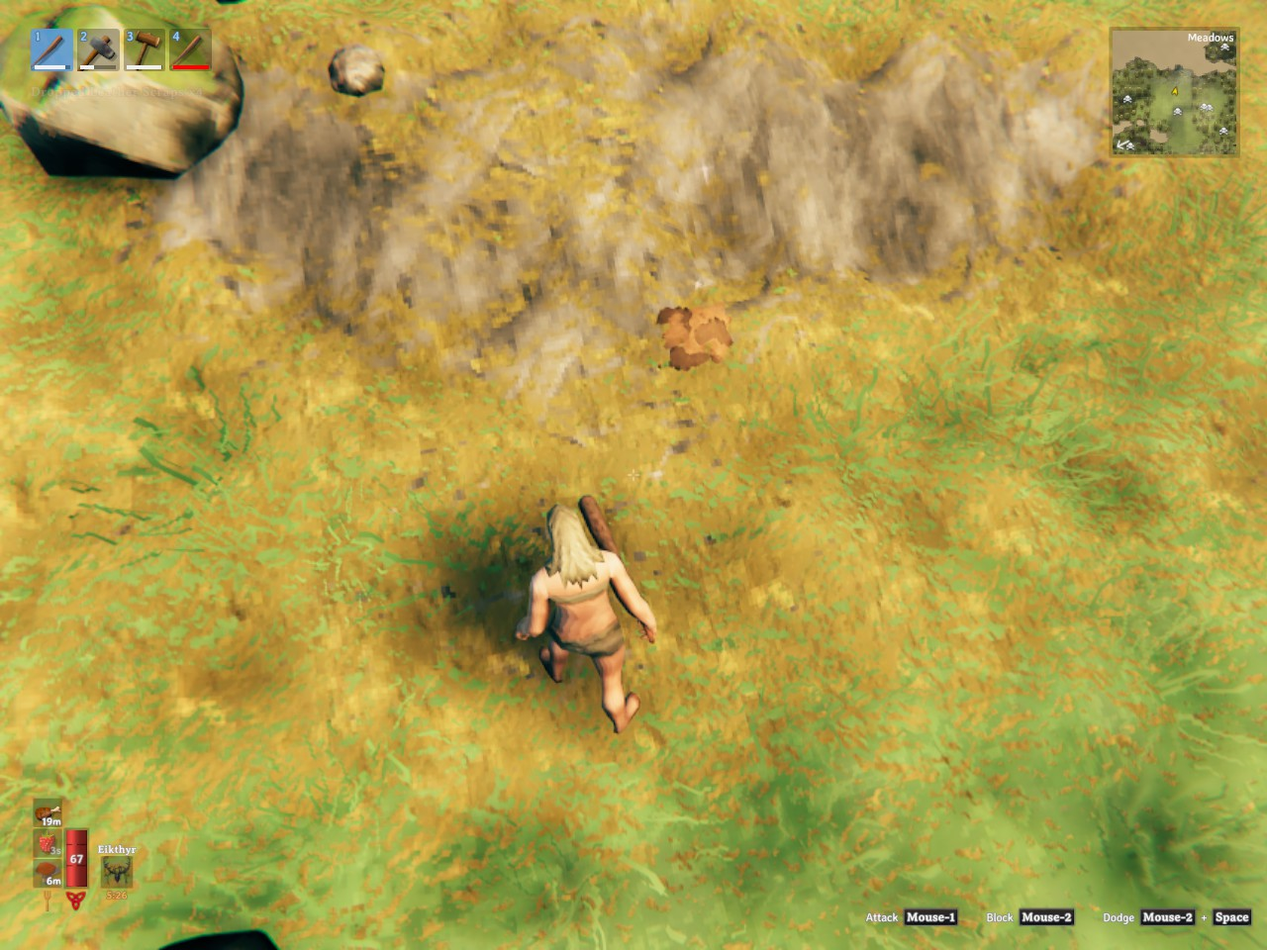Food Indicator: (36, 797, 63, 891)
Health Bar: (63, 826, 90, 891)
Hotbar: (25, 21, 398, 78)
Leather Scraps: (656, 305, 731, 369)
